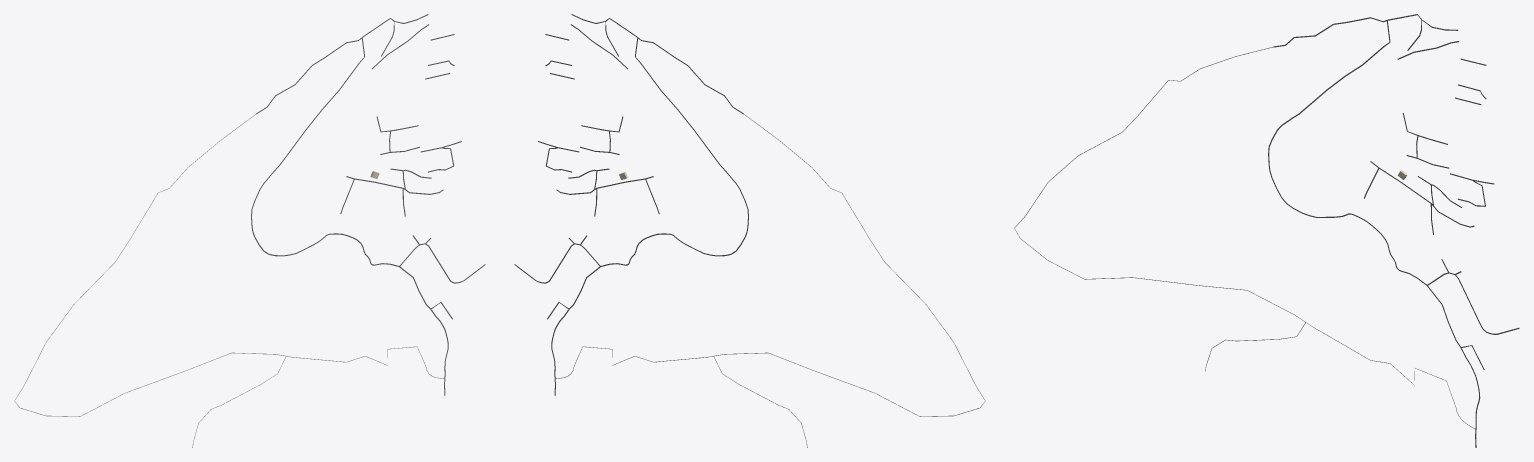
Rendered from historic-palestine-09_22_3509_3162.glb.
3 views of the same model, side by side, from view 1: azimuth 30°, elevation 25°; view 2: azimuth 150°, elevation 25°; view 3: azimuth 330°, elevation 25° (orthographic). The views are drawn at different scales.
Visible parts, largest first — view 1: Road .022, Road .017; view 2: Road .022, Road .017; view 3: Road .022, Road .017.
Part boxes in pixels (x1,y1,x2,y2): Road .022: (14, 114, 443, 416); Road .017: (251, 38, 399, 266); Road .022: (556, 114, 985, 416); Road .017: (600, 38, 748, 266); Road .022: (1014, 47, 1475, 429); Road .017: (1268, 20, 1427, 285).
Size of the model in its own units: 1467 by 1164 by 8.7.
